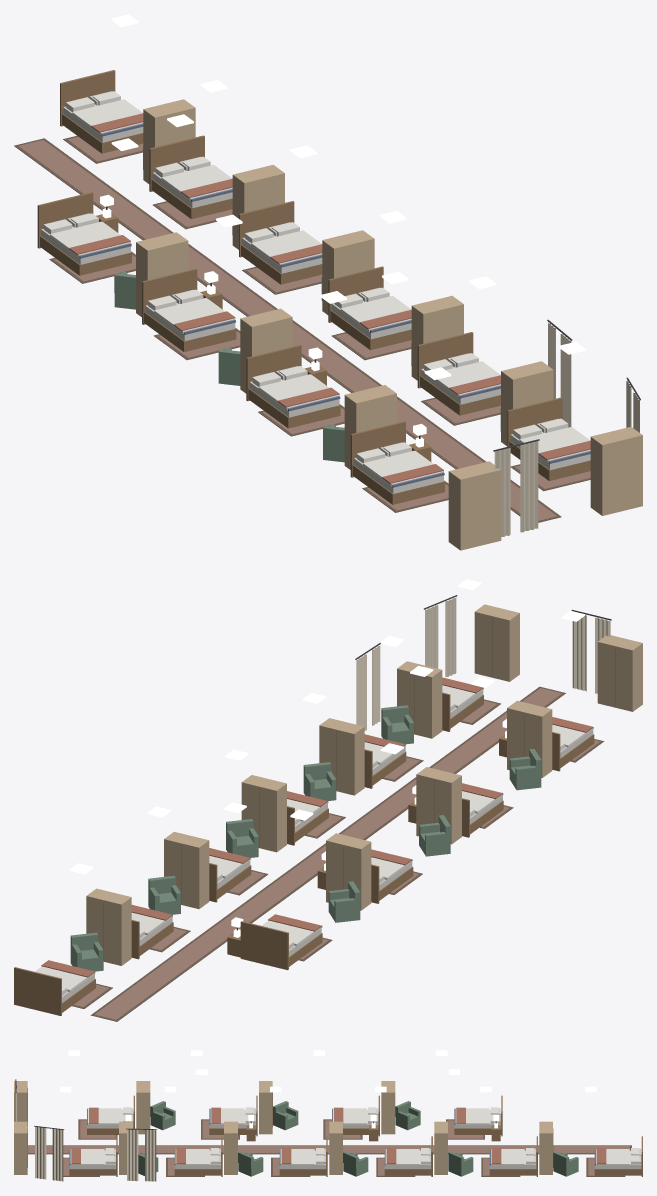
The model's file is fine-s2.glb.
3 views of the same model, one above another, from view 1: azimuth 30°, elevation 25°; view 2: azimuth 150°, elevation 25°; view 3: azimuth 270°, elevation 25° (orthographic). The views are drawn at different scales.
Parts seen in each view (by area): view 1: soft-s2, dresser.013, dresser.019, bed-frame.010, bed-frame.013, bed-frame.011, bed-frame.012, bed-frame.015, bed-frame.018, bed-frame.016, bed-frame.017, bed-frame.014 (+12 smaller); view 2: soft-s2, dresser.019, dresser.013, dresser.017, dresser.015, dresser.014, dresser.016, dresser.018, dresser.010, dresser.012, dresser.011, bed-frame.010 (+17 smaller); view 3: soft-s2, dresser.014, dresser.010, dresser.012, dresser.015, dresser.016, dresser.017, dresser.019, dresser.011, bed-frame.014, bed-frame.015, bed-frame.016 (+16 smaller).
Part boxes in pixels (x1,y1,x2,y2): soft-s2: (14, 91, 640, 536); dresser.013: (448, 461, 501, 550); dresser.019: (590, 427, 642, 515); bed-frame.010: (37, 192, 131, 275); bed-frame.013: (350, 421, 444, 504); bed-frame.011: (142, 268, 236, 351); bed-frame.012: (246, 344, 340, 428); bed-frame.015: (149, 135, 232, 218); bed-frame.018: (417, 332, 500, 415); bed-frame.016: (239, 201, 322, 284); bed-frame.017: (328, 266, 411, 349); bed-frame.014: (60, 70, 143, 153); soft-s2: (35, 595, 611, 1021); dresser.019: (474, 604, 519, 681); dresser.013: (597, 635, 642, 711); dresser.017: (319, 718, 364, 795); dresser.015: (164, 831, 209, 908); dresser.014: (86, 888, 131, 965); dresser.016: (241, 775, 286, 852); dresser.018: (397, 661, 442, 738); dresser.010: (326, 833, 371, 910); dresser.012: (507, 700, 552, 777); dresser.011: (416, 767, 461, 844); bed-frame.010: (240, 921, 322, 970); soft-s2: (15, 1079, 640, 1181); dresser.014: (539, 1121, 553, 1174); dresser.010: (381, 1081, 395, 1134); dresser.012: (136, 1081, 150, 1134); dresser.015: (434, 1121, 447, 1174); dresser.016: (329, 1121, 342, 1174); dresser.017: (224, 1121, 237, 1174); dresser.019: (14, 1121, 27, 1174); dresser.011: (259, 1081, 272, 1134); bed-frame.014: (594, 1136, 642, 1176); bed-frame.015: (489, 1136, 537, 1176); bed-frame.016: (384, 1136, 432, 1176).
Size of the model in its own units: 6.5 by 3.76 by 27.37.
